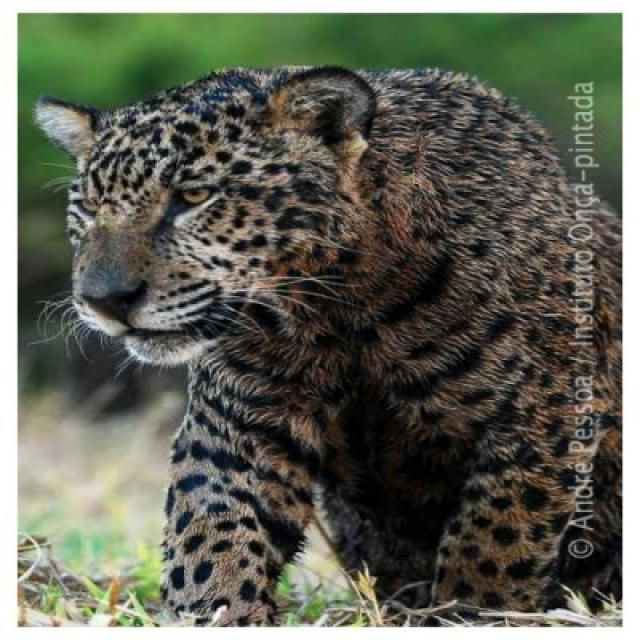Jaguar: (34, 66, 618, 630)
